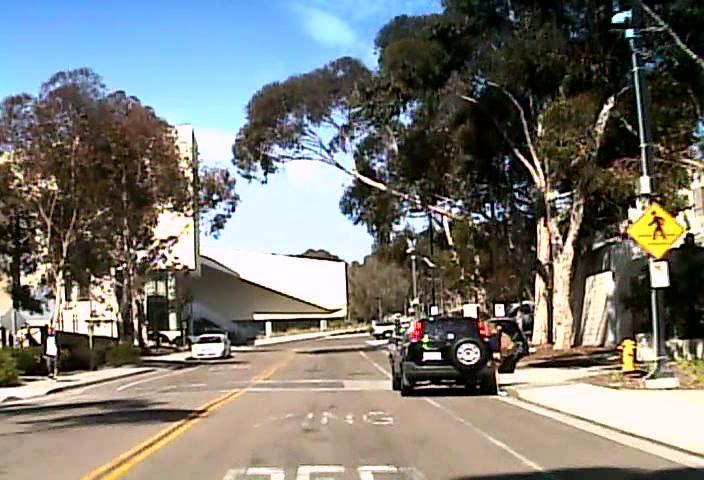pedestrianCrossing: (627, 201, 685, 259)
